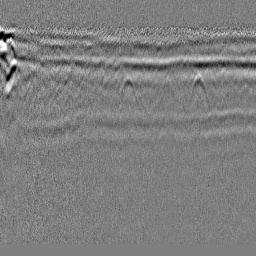cavity: (119, 73, 137, 104)
